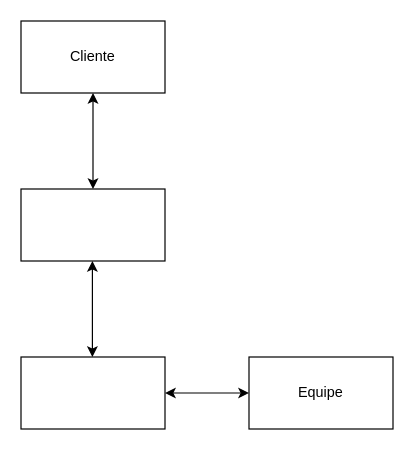
Some shapes in this 414 by 450 pixel diagram are drawn without their labels. Each missing label, with the centre of its shape:
Venda: the point at 92,224
Vendedor: the point at 92,392
